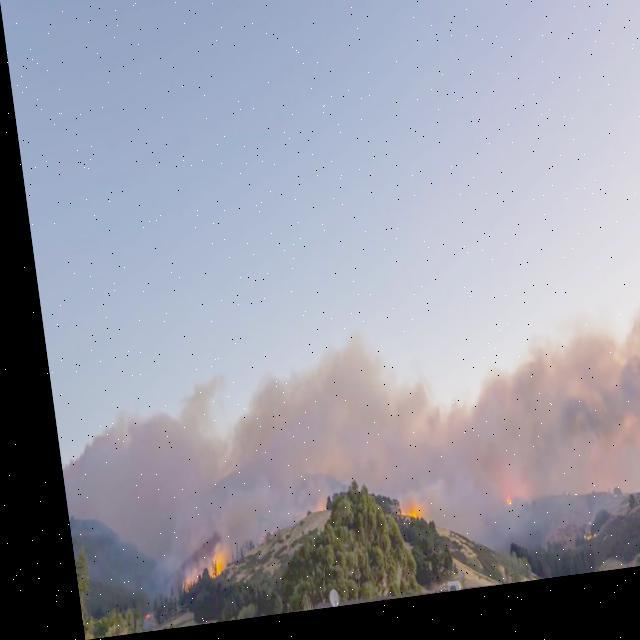Fire: (190, 557, 210, 581), (386, 516, 404, 530), (488, 504, 496, 520)
